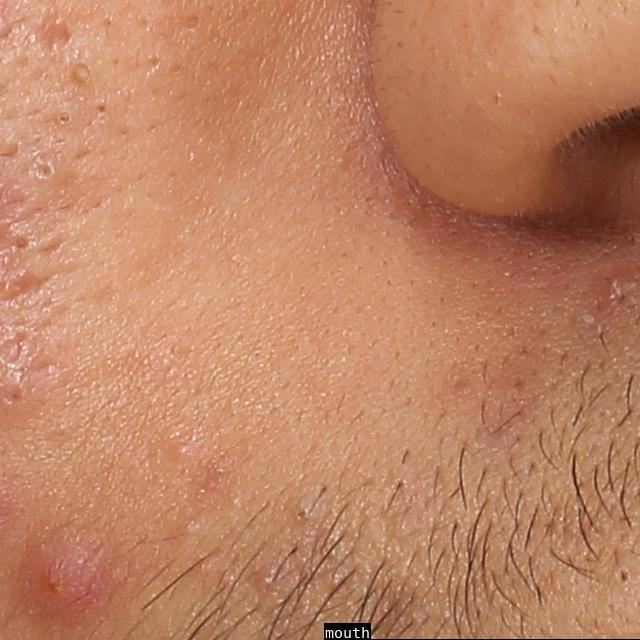atrophic_scar: (23, 14, 76, 56)
comedo: (66, 56, 92, 88), (32, 158, 61, 185), (291, 503, 315, 527), (54, 106, 78, 129), (254, 570, 277, 592), (613, 564, 633, 589), (180, 11, 203, 32), (94, 99, 111, 119)
papule: (15, 521, 125, 616)
